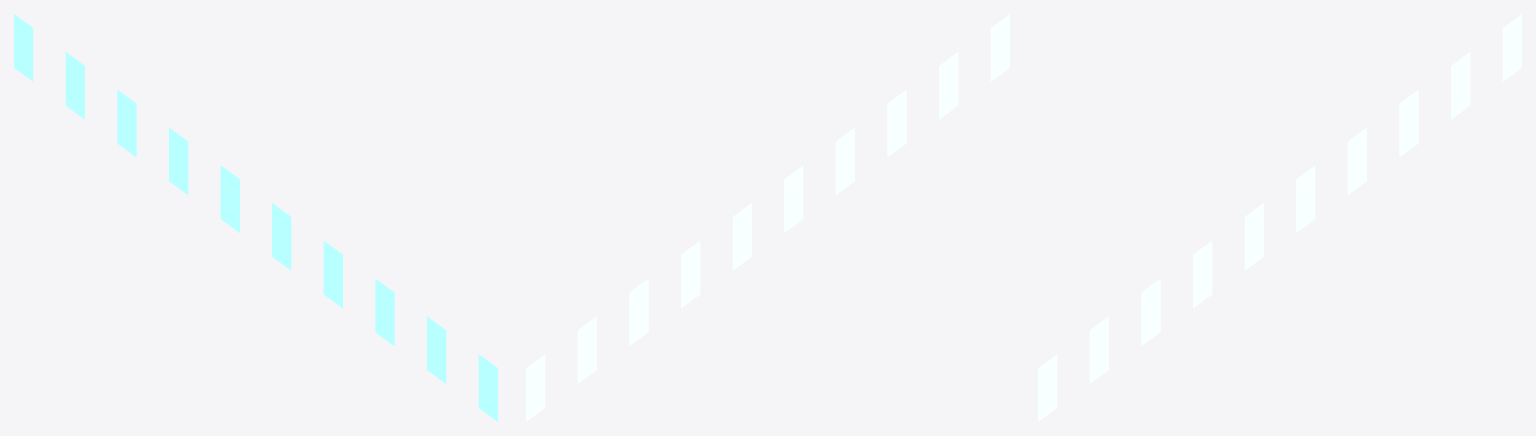
The model's file is LucesIzq.fbx.
3 renders of one model, left to right at view 1: azimuth 30°, elevation 25°; view 2: azimuth 150°, elevation 25°; view 3: azimuth 330°, elevation 25°, orthographic.
Visible parts, largest first — view 1: LucesIzq; view 2: LucesIzq; view 3: LucesIzq.
Boxes of the visible parts, <box> form: LucesIzq: <box>14,14,497,421</box>; LucesIzq: <box>526,14,1009,421</box>; LucesIzq: <box>1038,14,1521,421</box>.
Bounding box in the file's own units: 0 × 968 × 15750.
